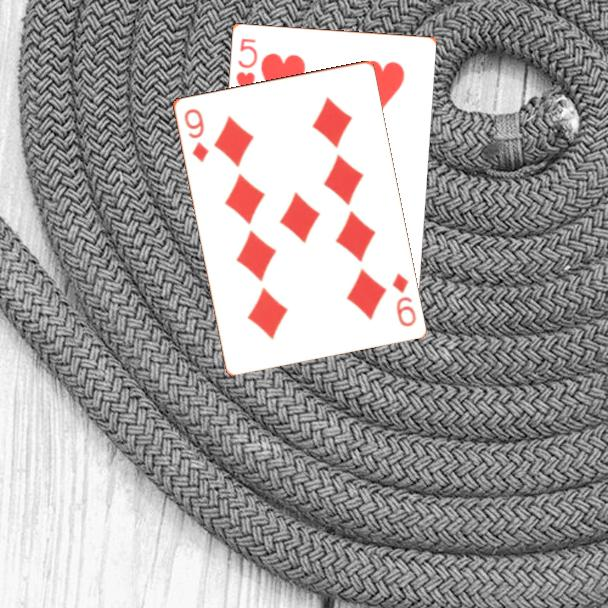d09: (180, 105, 211, 164), (389, 269, 419, 329)
h05: (232, 34, 260, 97)
